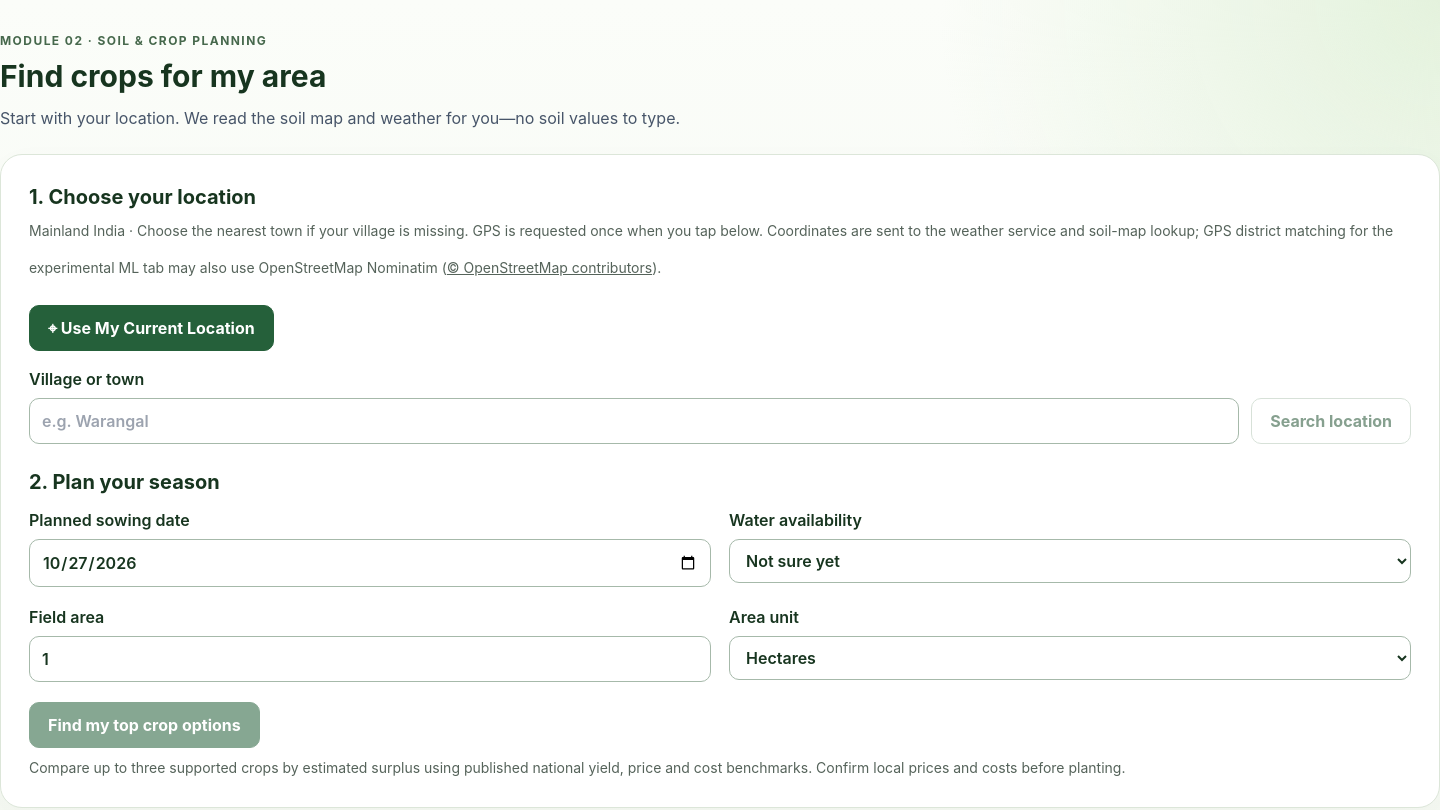
Test: location crop planning › clears a previously selected place when search text changes
The width and height of the screenshot is (1440, 810).
Type "Warangal" into the field labelled "Village or town".
click(634, 421); type("Warangal")  # box [29,398,1239,444]
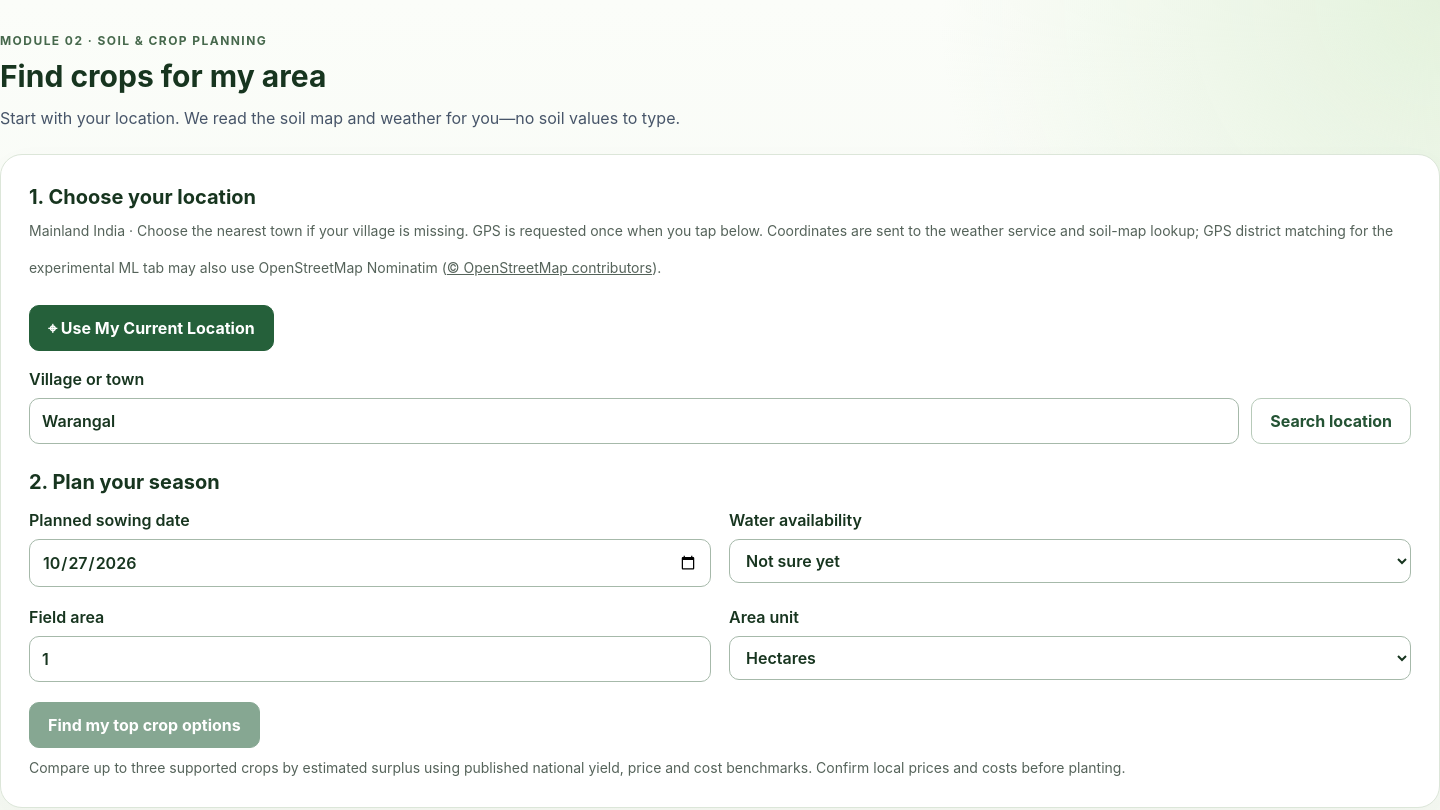
Click the button "Search location".
click(1331, 421)  # box [1251,398,1411,444]
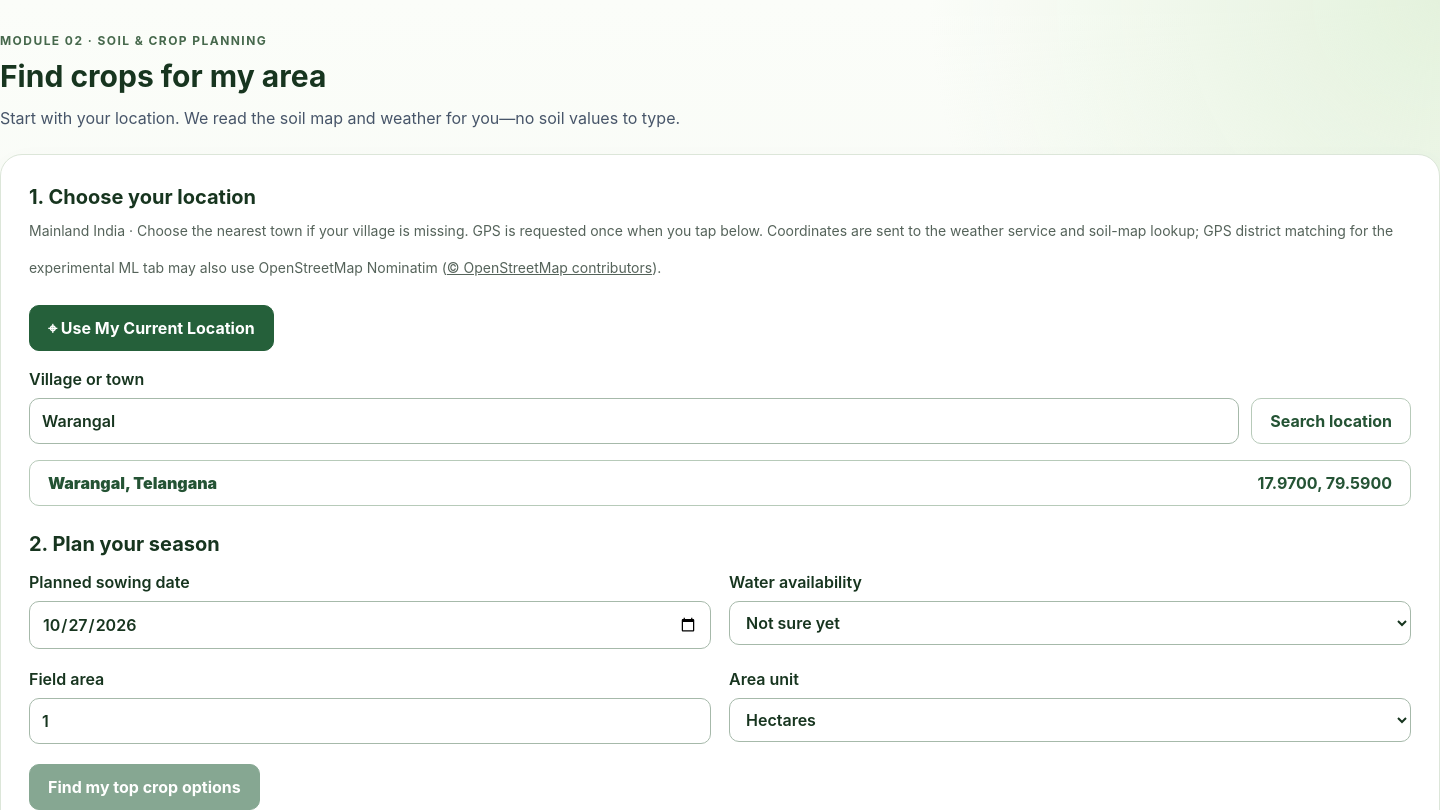
Click the button "Warangal, Telangana 17.9700, 79.5900".
click(133, 483)  # box [29,460,1411,506]
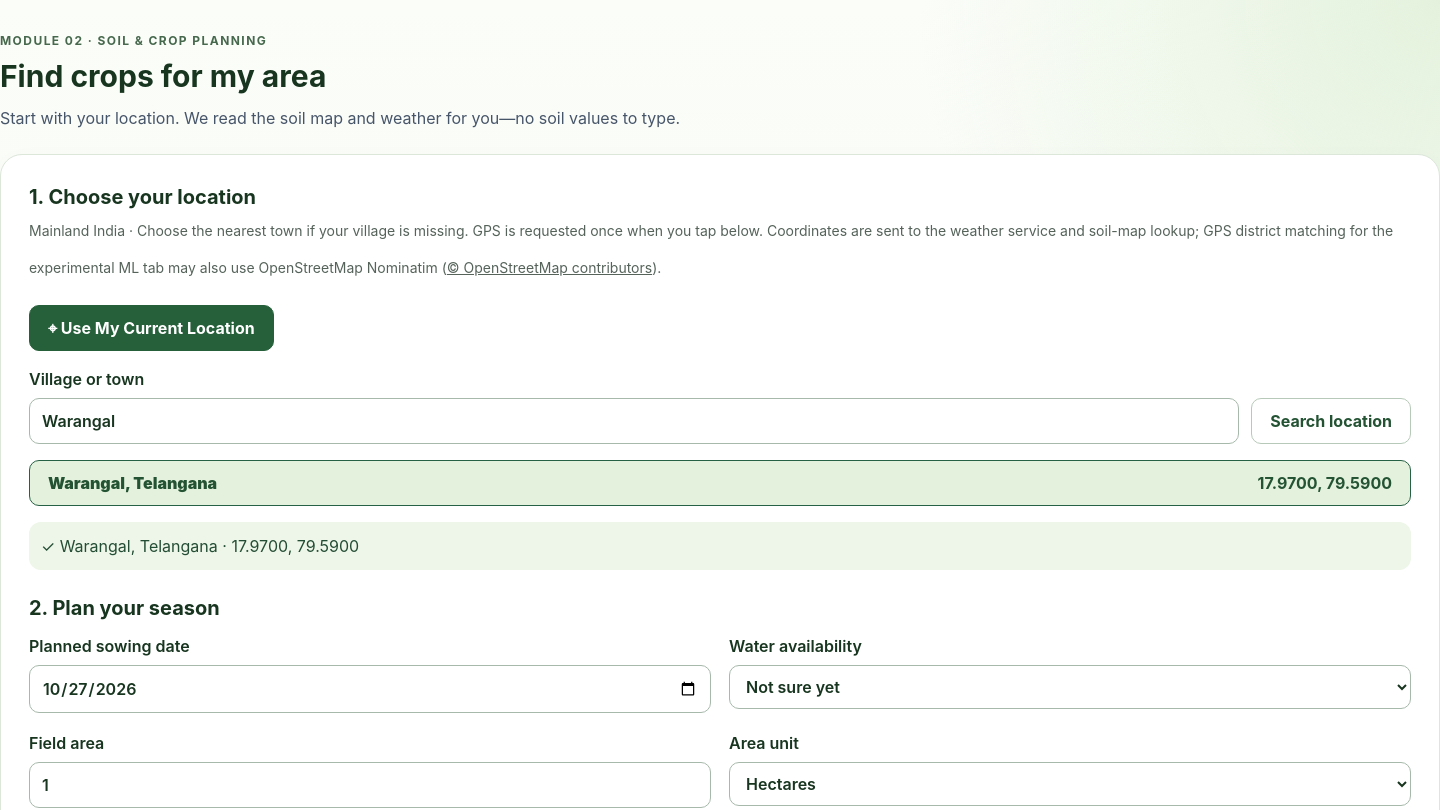
Replace the text in the field labelled "Village or town" with "Ludhiana" at (634, 421), box [29,398,1239,444]
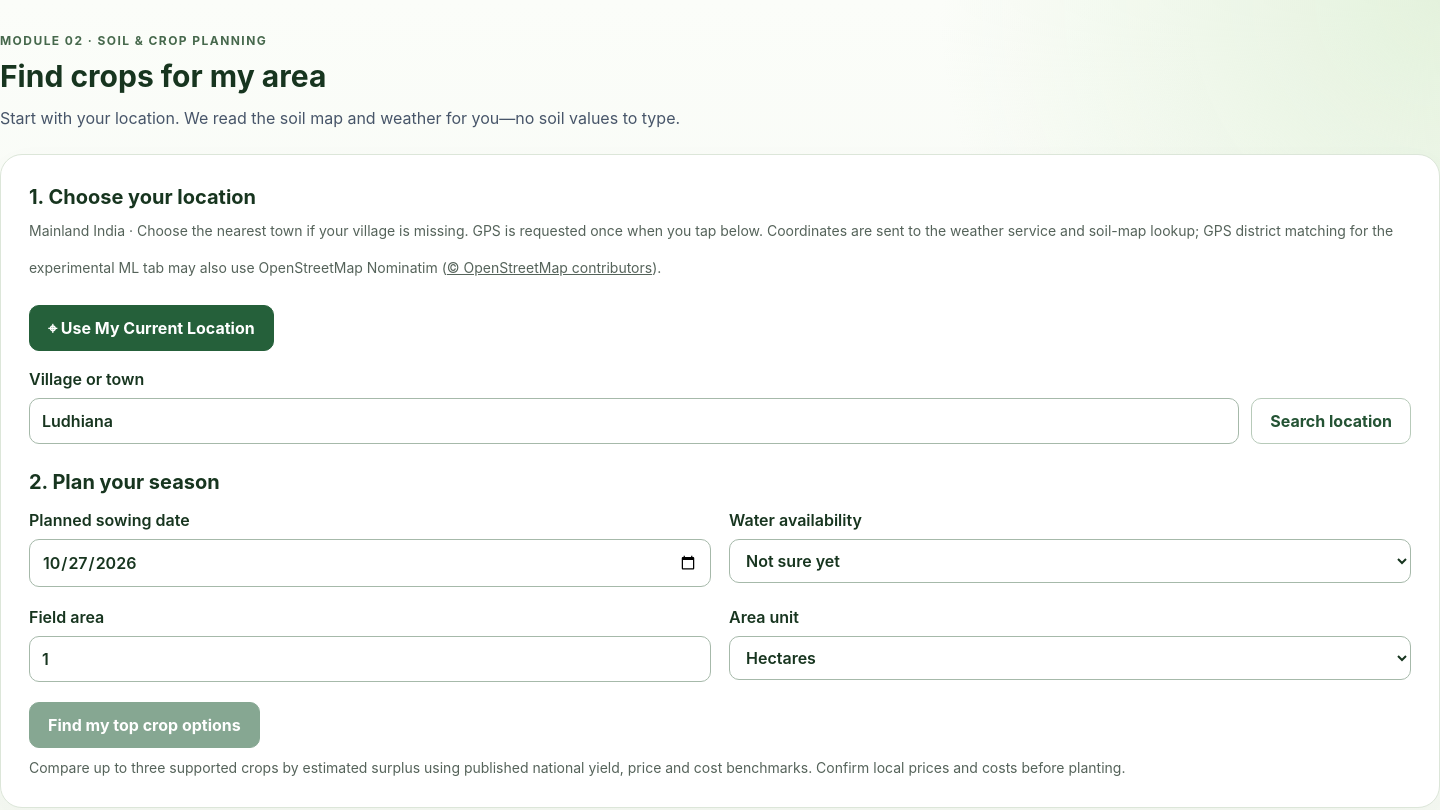
Check: the button "Find my top crop options" is disabled, box [29,702,260,748]
